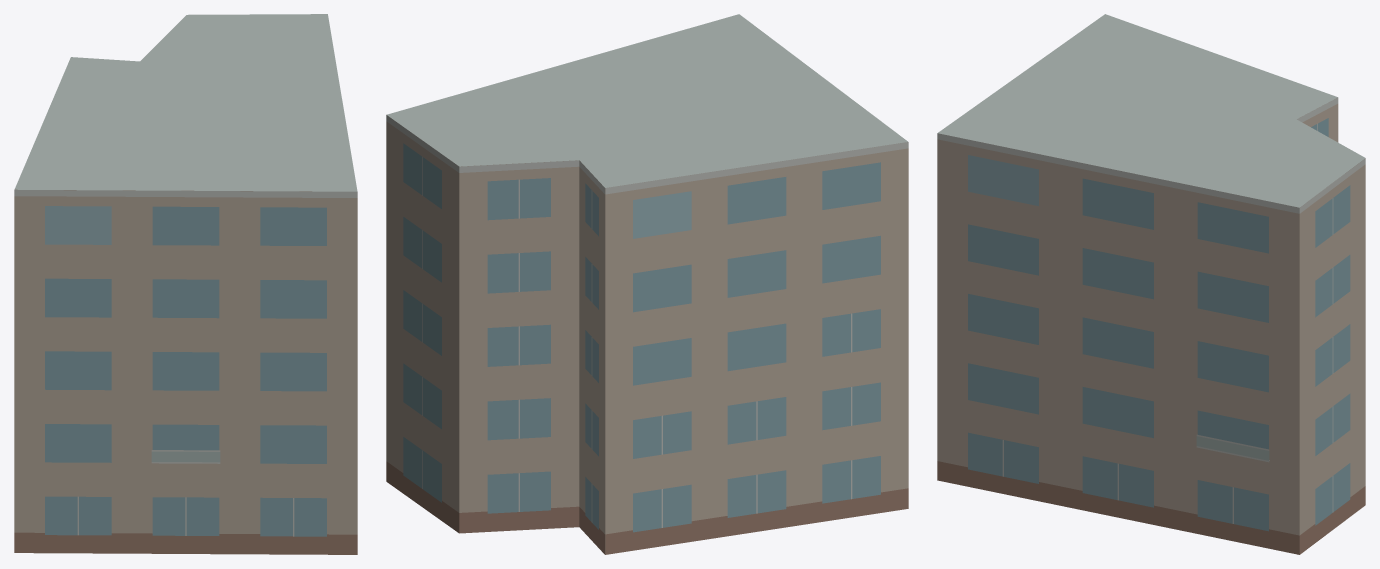
Rendered from survey-upis-32891068.glb.
The picture shows the model from 3 angles, left to right: view 1: azimuth 30°, elevation 25°; view 2: azimuth 150°, elevation 25°; view 3: azimuth 270°, elevation 25°; orthographic projection. The views are drawn at different scales.
Visible parts, largest first — view 1: survey-upis-32891068.tmp; view 2: survey-upis-32891068.tmp; view 3: survey-upis-32891068.tmp.
Part boxes in pixels (bbox=[...]): survey-upis-32891068.tmp: bbox=[14, 14, 357, 554]; survey-upis-32891068.tmp: bbox=[386, 14, 908, 554]; survey-upis-32891068.tmp: bbox=[937, 14, 1365, 554].
Size of the model in its own units: 16.52 by 13.8 by 15.44.
